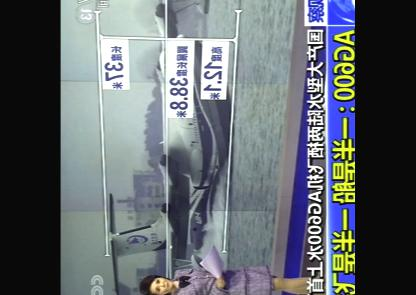AG600: (106, 0, 231, 294)
